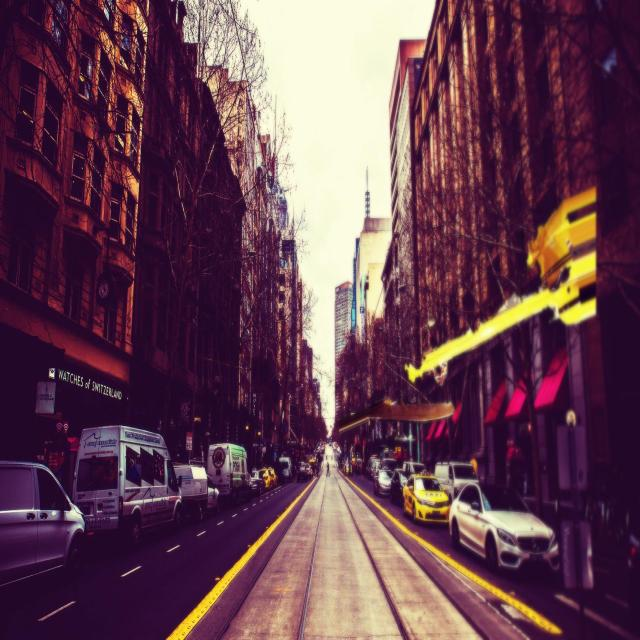airplane: (405, 182, 596, 386)
